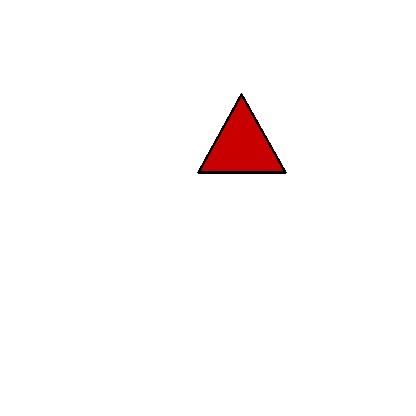triangle: (198, 94, 285, 172)
